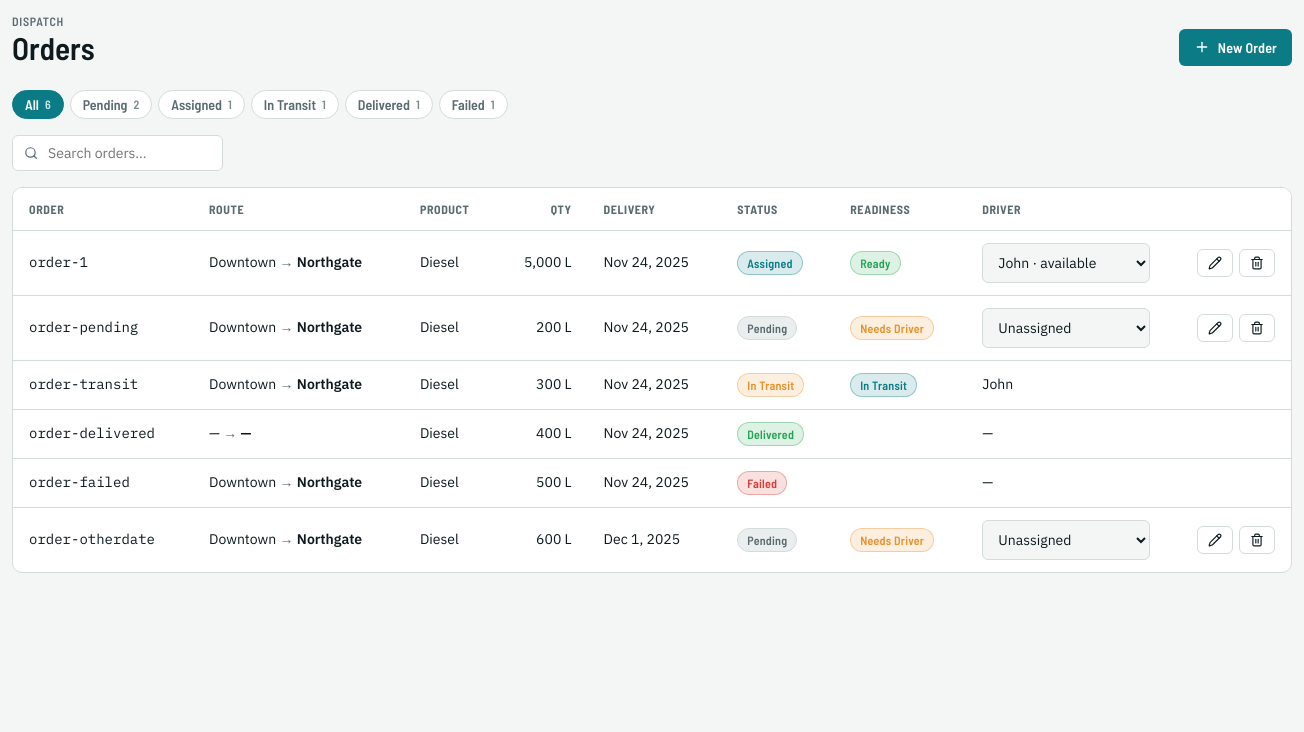
it: OrdersPage › filters via the search box (id, product, and destination name)
Expected: the text "order-1" is shown, [29, 253, 88, 271]
// matches by product
In the field labelled "Search": point(129, 153) [46, 143, 211, 163], type "diesel"
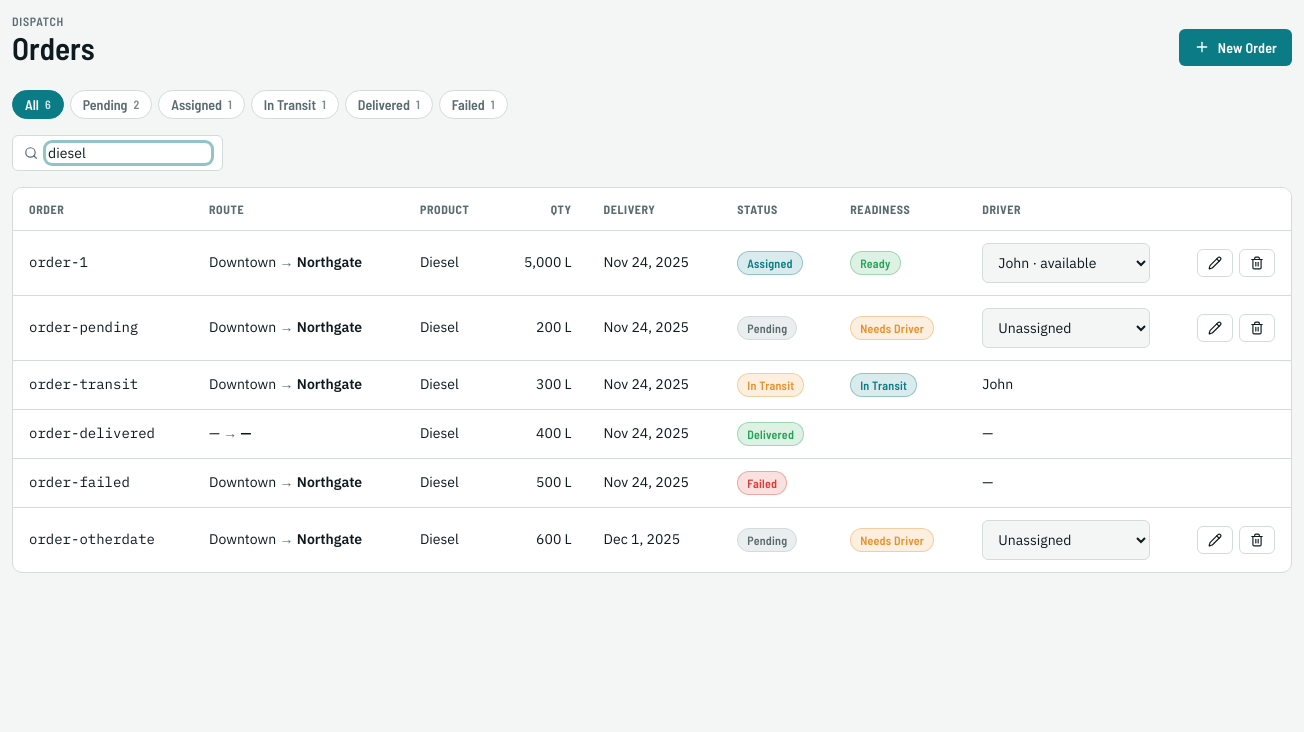
Expected: the text "order-1" is shown, [29, 253, 88, 271]
// matches by destination hub name only (Northgate)
Replace the text in the field named "Search" with "northgate": point(129, 153) [46, 143, 211, 163]
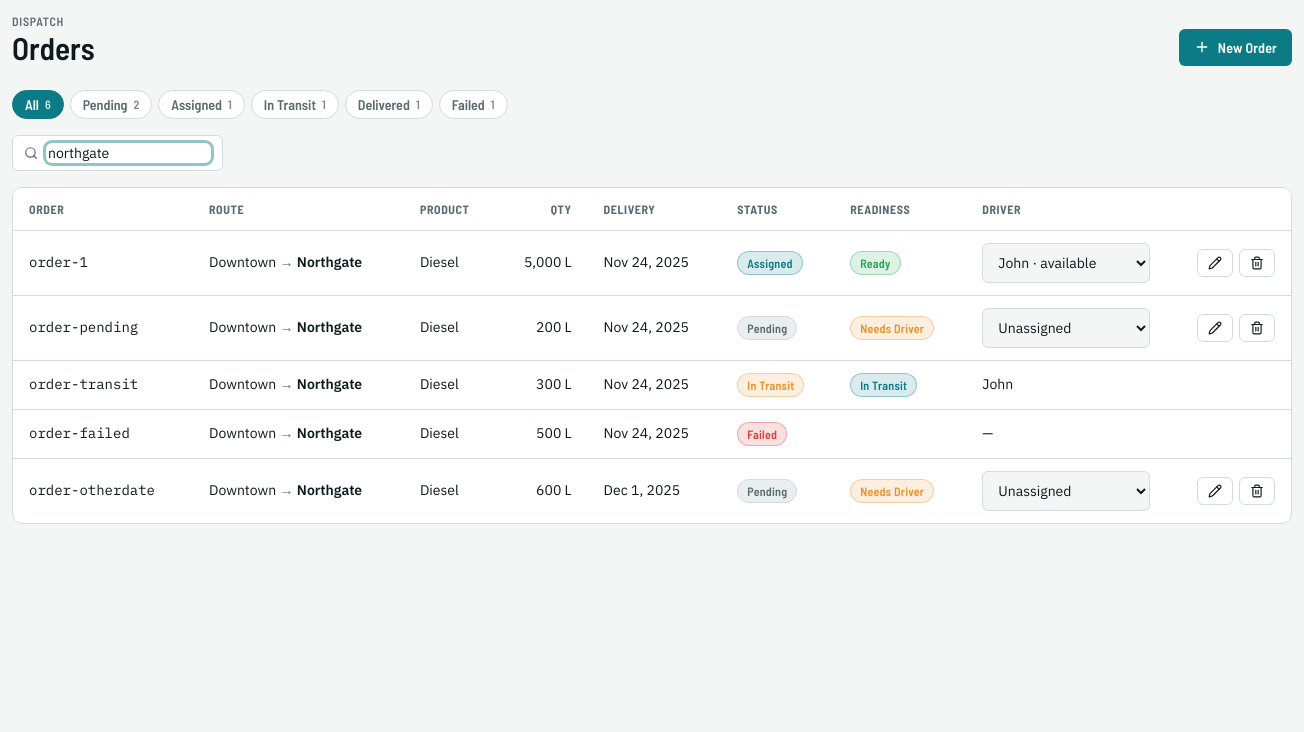
Expected: the text "order-1" is shown, [29, 253, 88, 271]
Expected: the text "order-delivered" is gone
// matches nothing
Replace the text in the field named "Search" with "zzzznomatch": point(129, 153) [46, 143, 211, 163]
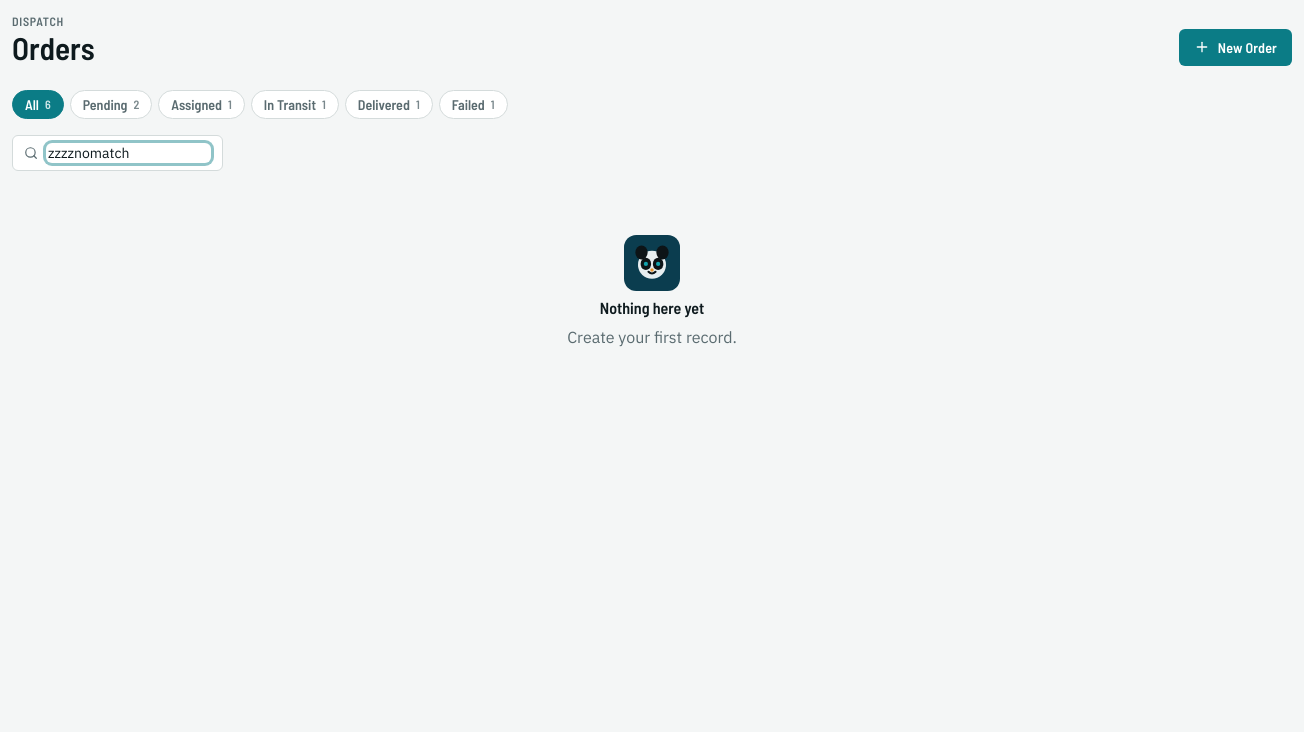
Expected: the text "order-1" is gone
